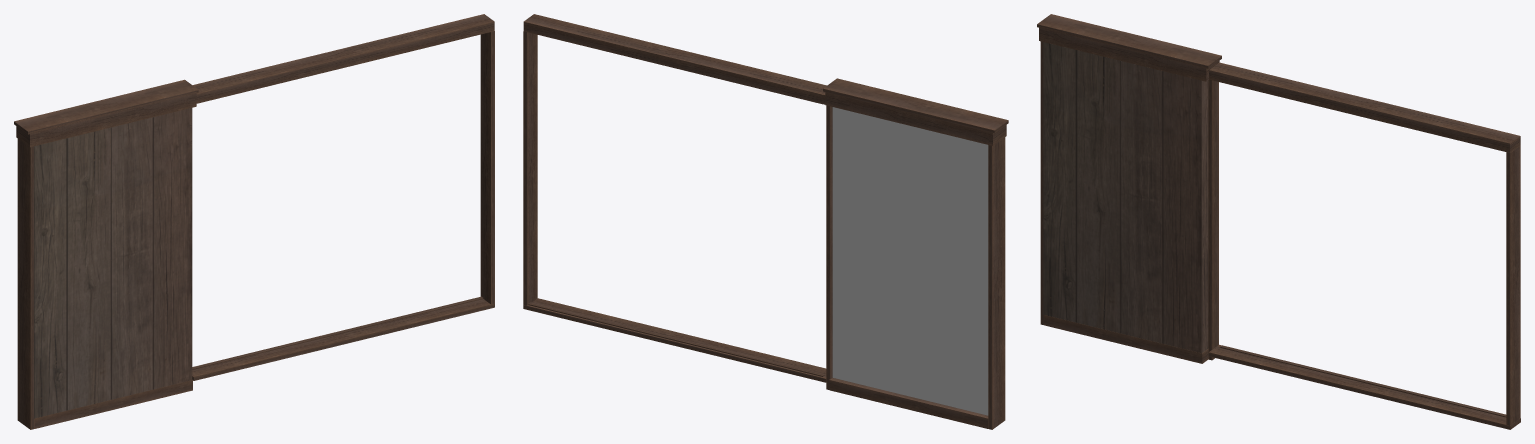
Rendered from windowflameout01r.fbx.
3 renders of one model, left to right at view 1: azimuth 30°, elevation 25°; view 2: azimuth 150°, elevation 25°; view 3: azimuth 330°, elevation 25°, orthographic.
Visible parts, largest first — view 1: windowflameout01r; view 2: windowflameout01r; view 3: windowflameout01r.
Part boxes in pixels (x1,y1,x2,y2): windowflameout01r: (14, 14, 494, 429); windowflameout01r: (523, 14, 1008, 429); windowflameout01r: (1037, 14, 1520, 429).
Size of the model in its own units: 256 by 156 by 13.15.
